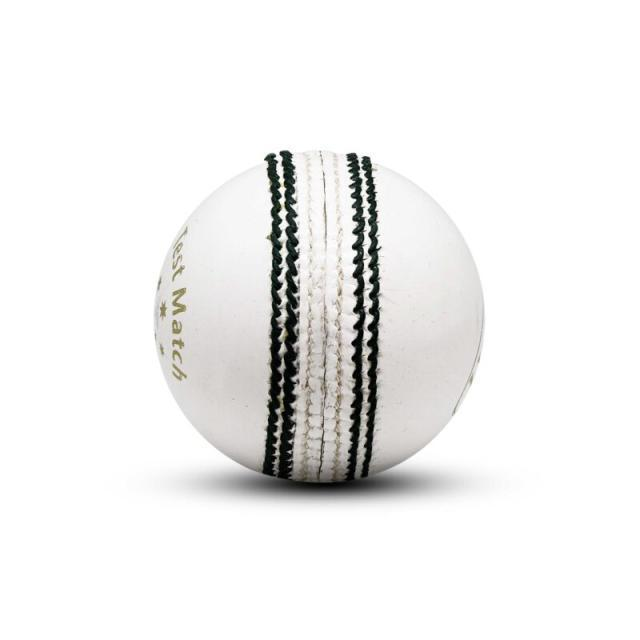cricket ball: (152, 148, 485, 483)
